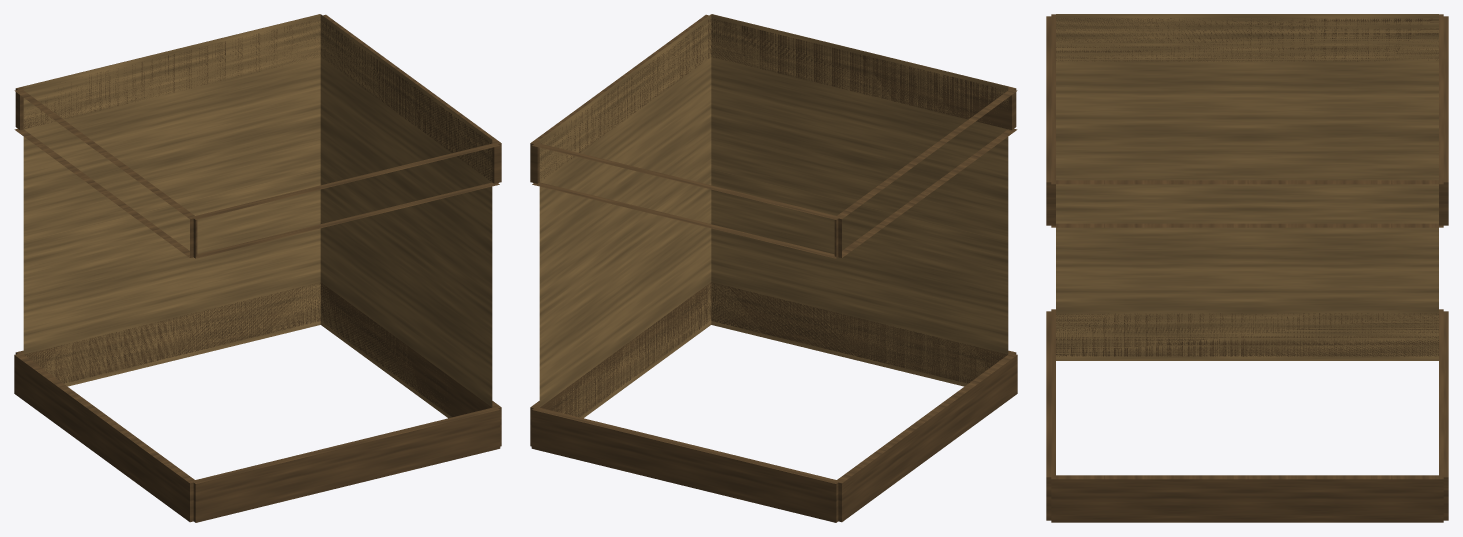
Rendered from crate.glb.
3 renders of one model, left to right at view 1: azimuth 30°, elevation 25°; view 2: azimuth 150°, elevation 25°; view 3: azimuth 270°, elevation 25°, orthographic. The views are drawn at different scales.
Visible parts, largest first — view 1: Crate; view 2: Crate; view 3: Crate.
Part boxes in pixels (left/top/right/bottom): Crate: left=14, top=14, right=501, bottom=522; Crate: left=530, top=14, right=1017, bottom=522; Crate: left=1046, top=14, right=1448, bottom=522.
Bounding box in the file's own units: 0.84 × 0.8 × 0.84.
2 materials, 2 textured.
